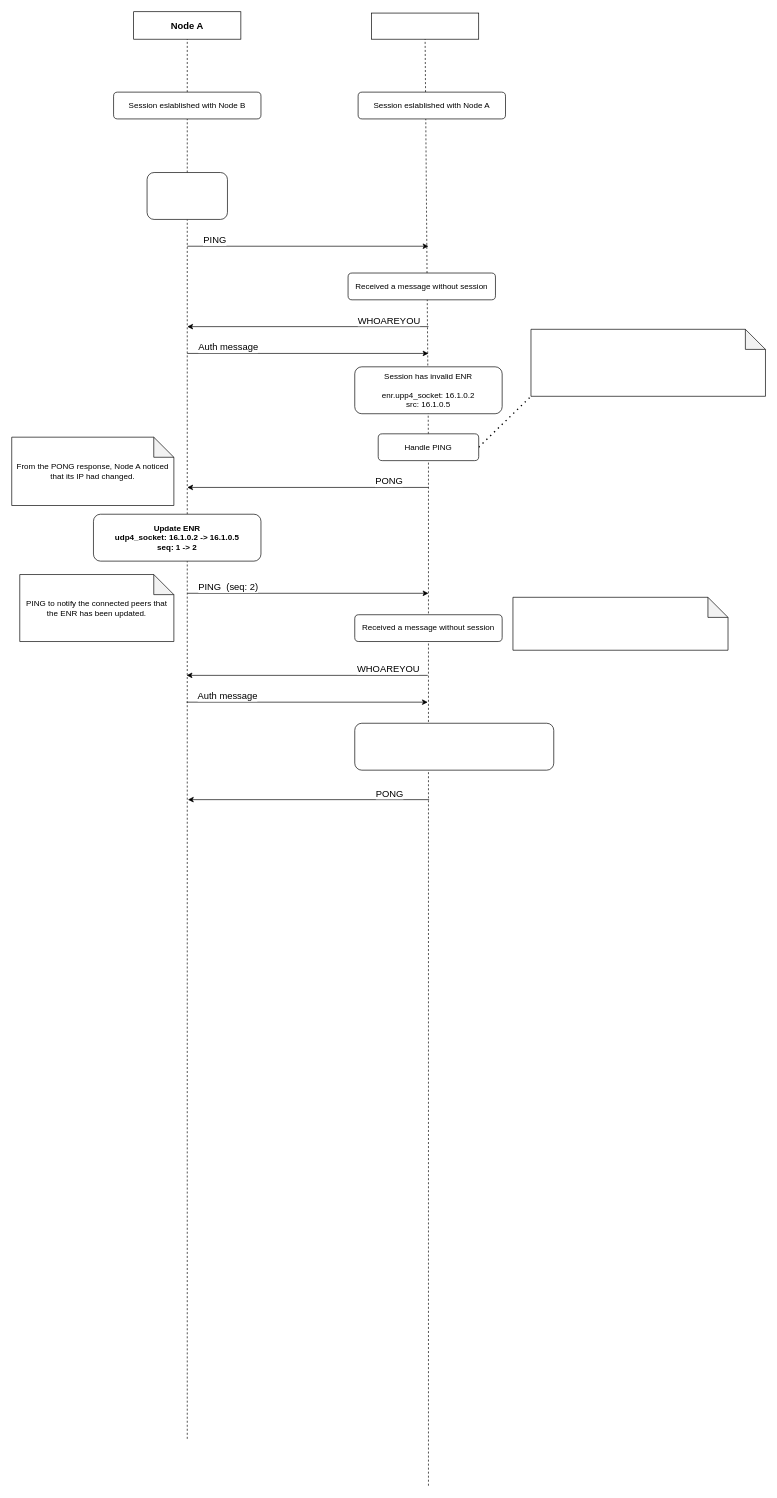
This 777x1498 diagram has some shape labels left out. The centre of each missing label's shape, as x and y in pixels:
"Change IP from: 16.1.0.2 to: 16.1.0.5" belongs at point 186,195.
"No available session with Node A so sends WHOAREYOU again." belongs at point 620,623.
"Node B" belongs at point 425,25.
"Responds to the PING request using one-time session ." belongs at point 647,362.
"Session established and the ENR in the routing table has been updated." belongs at point 454,746.
